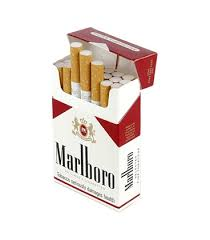marlboro: (50, 79, 120, 202)
